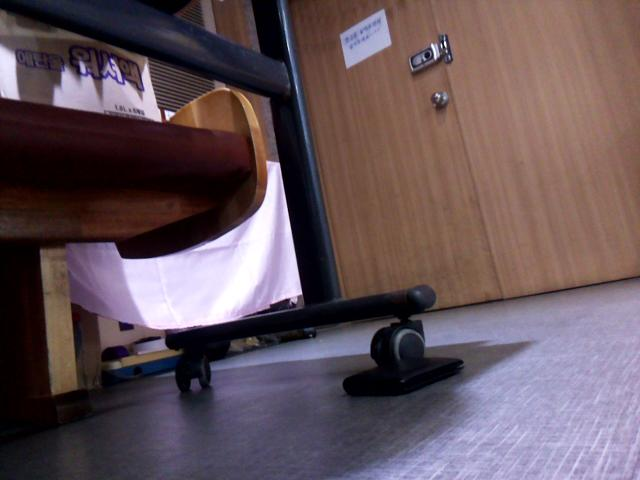wallet: (337, 353, 468, 398)
